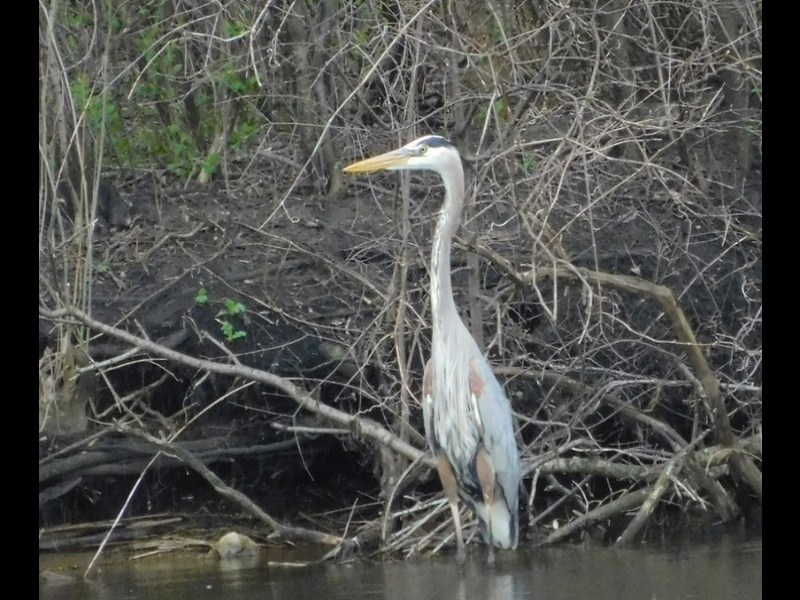heron: (342, 132, 524, 568)
